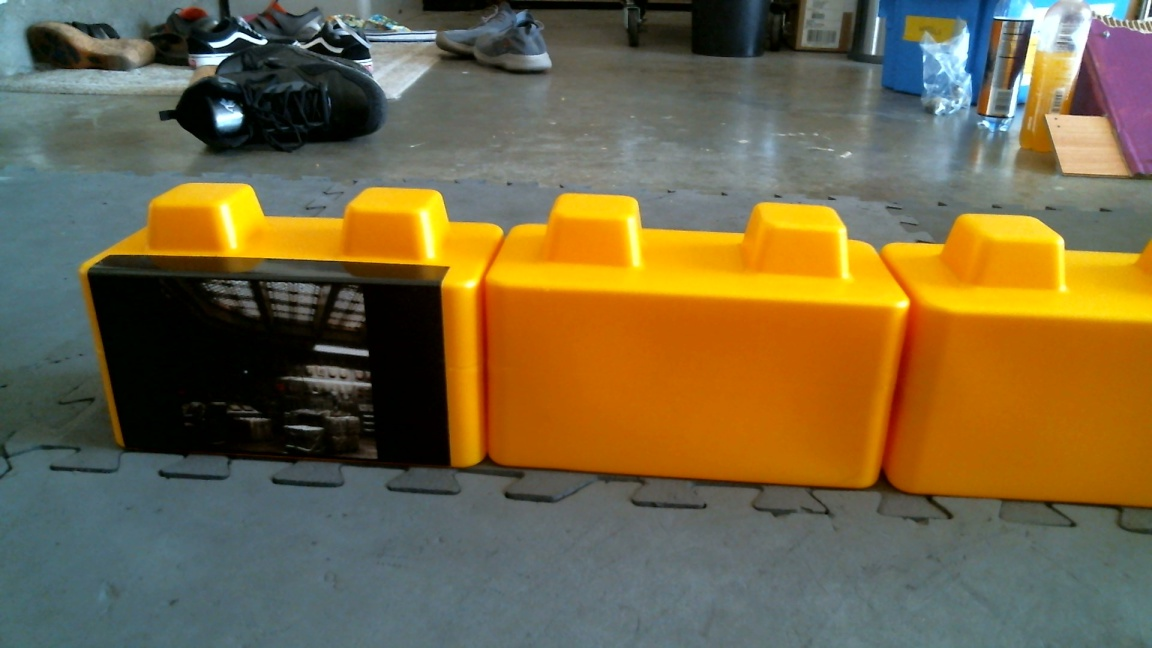left: (86, 215, 1152, 479)
